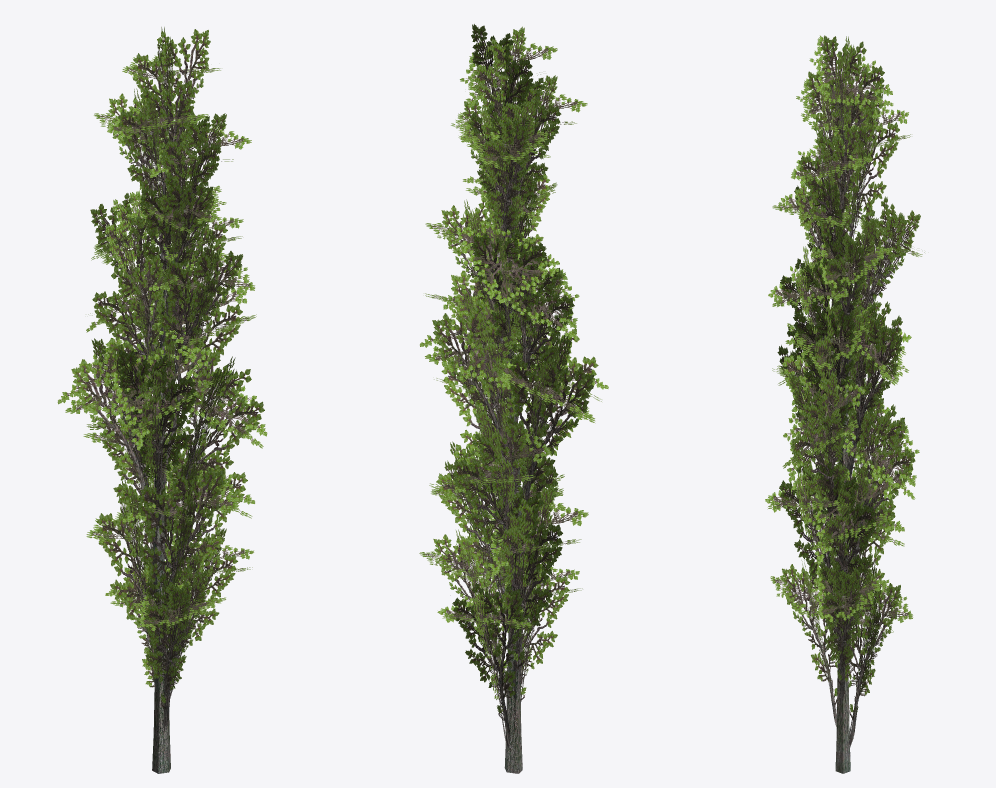
File: poplar_lombardy.glb
The picture shows the model from 3 angles, left to right: view 1: azimuth 30°, elevation 25°; view 2: azimuth 150°, elevation 25°; view 3: azimuth 270°, elevation 25°; orthographic projection.
Bounding box in the file's own units: 9.06 × 21.1 × 7.04.
1 material, 1 textured.
